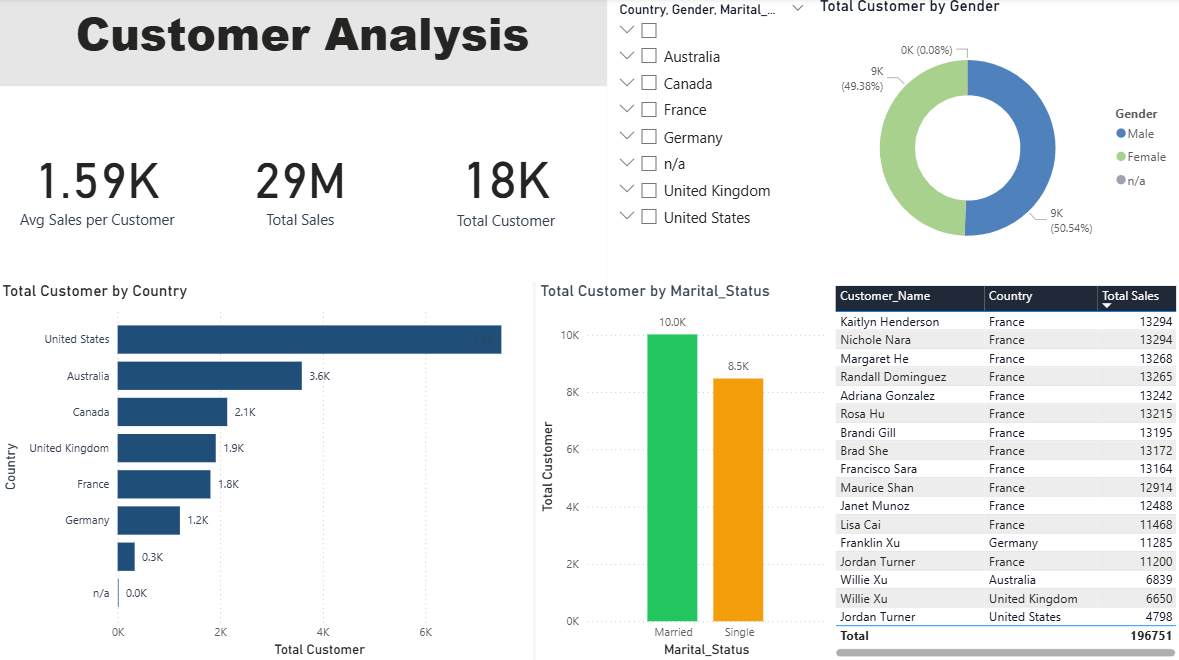

Layout of this report page (visuals, bound fields, positions):
{"tool":"powerbi","page":{"name":"Customer Analysis","canvas":[1280,720],"ordinal":1},"visuals":[{"type":"textbox","box":[0,0,659.8,96.8],"z":0},{"type":"card","fields":{"Values":["final dim_customers.Total Customer"]},"box":[439.9,96.8,219.9,211.1],"z":1000},{"type":"card","fields":{"Values":["final fact_sales.Total Sales"]},"box":[214.7,96.8,225.2,211.1],"z":2000},{"type":"card","fields":{"Values":["final fact_sales.Avg Sales per Customer"]},"box":[0,96.8,214.7,211.1],"z":3000},{"type":"clusteredBarChart","fields":{"Category":["final dim_customers.Country"],"Y":["final dim_customers.Total Customer"]},"box":[0,307.9,578.9,411.7],"z":4000},{"type":"donutChart","fields":{"Y":["final dim_customers.Total Customer"],"Category":["final dim_customers.Gender"]},"box":[885,0,395.9,307.9],"z":5000},{"type":"clusteredColumnChart","fields":{"Category":["final dim_customers.Marital_Status"],"Y":["final dim_customers.Total Customer"]},"box":[582.4,307.9,318.5,411.7],"z":6000},{"type":"tableEx","fields":{"Values":["final dim_customers.Customer_Name","final dim_customers.Country","final fact_sales.Total Sales"]},"box":[900.8,307.9,380,411.7],"z":7000},{"type":"slicer","fields":{"Values":["final dim_customers.Country","final dim_customers.Gender","final dim_customers.Marital_Status"]},"box":[659.8,0,225.2,307.9],"z":8000}]}

Visuals, with their boxes in screenshot pixels (x1, y1, x2, y2), scaled from the page's 1280x720 canvas onto the 1179x660 screenshot:
textbox: <region>0, 0, 608, 89</region>
card - final dim_customers.Total Customer: <region>405, 89, 608, 282</region>
card - final fact_sales.Total Sales: <region>198, 89, 405, 282</region>
card - final fact_sales.Avg Sales per Customer: <region>0, 89, 198, 282</region>
clusteredBarChart - final dim_customers.Country x final dim_customers.Total Customer: <region>0, 282, 533, 659</region>
donutChart - final dim_customers.Total Customer x final dim_customers.Gender: <region>815, 0, 1178, 282</region>
clusteredColumnChart - final dim_customers.Marital_Status x final dim_customers.Total Customer: <region>536, 282, 830, 659</region>
tableEx - final dim_customers.Customer_Name x final dim_customers.Country: <region>830, 282, 1178, 659</region>
slicer - final dim_customers.Country x final dim_customers.Gender: <region>608, 0, 815, 282</region>
